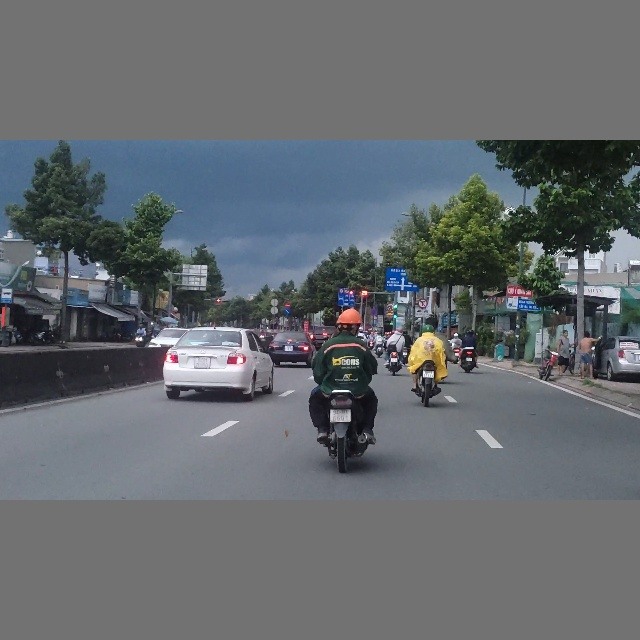I.434a: (1, 288, 12, 303)
P.102: (285, 303, 291, 308)
P.137: (418, 299, 428, 309)
R.302a: (284, 309, 290, 314)
R.415a: (338, 293, 354, 306)
